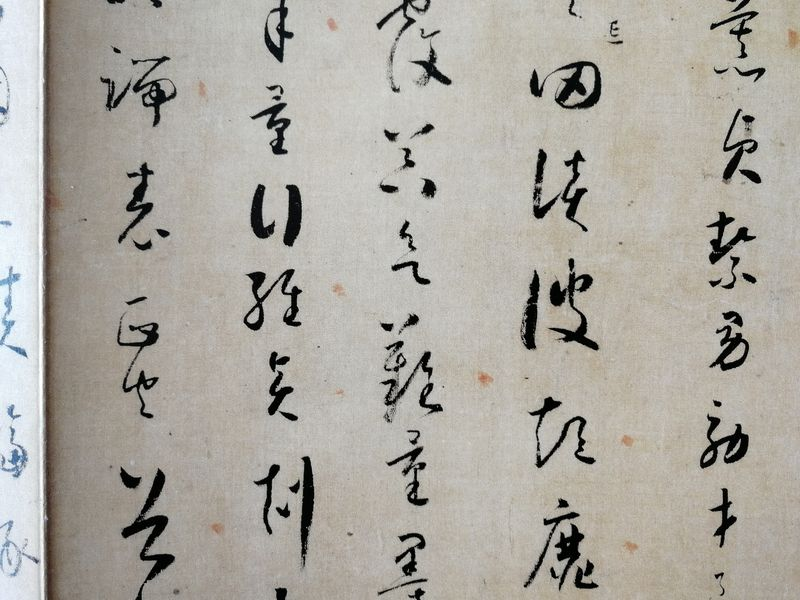zi: (520, 257, 605, 354), (117, 466, 178, 592), (524, 499, 606, 592), (381, 312, 447, 427), (374, 1, 454, 94), (103, 42, 183, 129), (255, 455, 319, 562), (524, 392, 597, 468), (530, 146, 589, 232), (375, 122, 440, 199), (115, 163, 170, 253), (706, 208, 761, 293), (711, 1, 768, 80), (529, 59, 605, 111), (716, 106, 763, 189), (248, 180, 306, 247), (384, 425, 432, 503), (245, 261, 302, 326), (377, 532, 428, 600), (701, 396, 748, 469), (261, 347, 306, 419), (251, 82, 294, 157), (388, 220, 429, 285), (711, 307, 750, 373), (111, 298, 161, 349), (116, 367, 163, 417), (260, 1, 294, 62), (712, 487, 741, 549)
